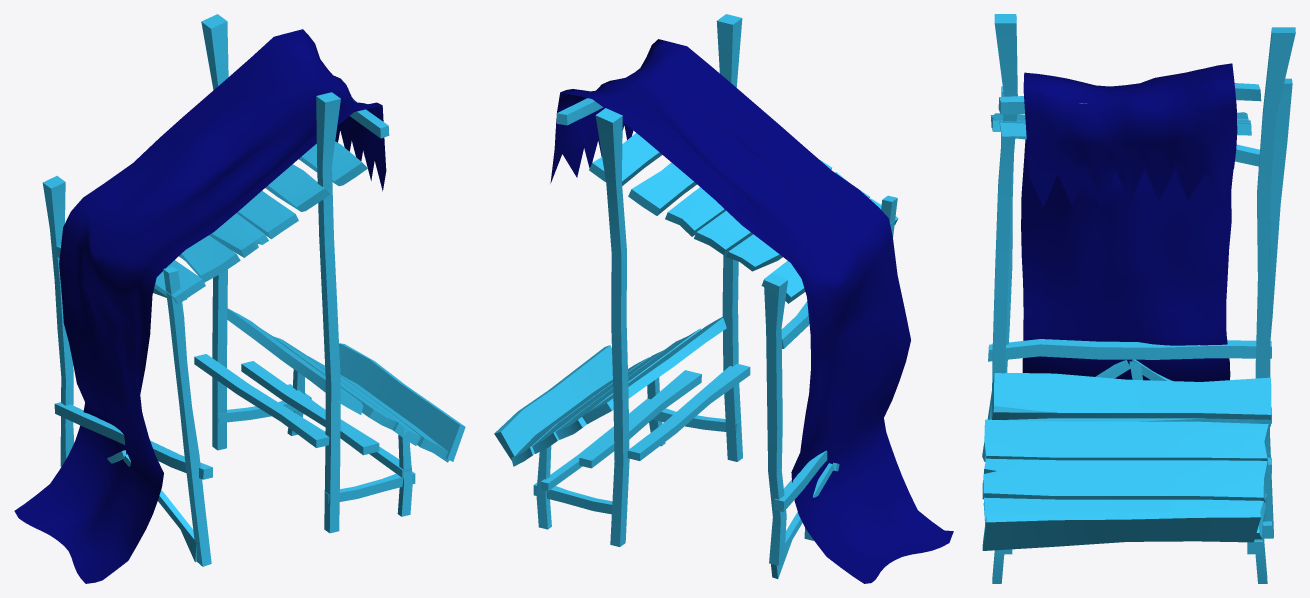
The model's file is Stall_A.fbx.
3 views of the same model, side by side, from view 1: azimuth 30°, elevation 25°; view 2: azimuth 150°, elevation 25°; view 3: azimuth 270°, elevation 25° (orthographic). The views are drawn at different scales.
Visible parts, largest first — view 1: Stall_A; view 2: Stall_A; view 3: Stall_A.
Part boxes in pixels (box(x1,y1,x2,y2)): Stall_A: box(14, 14, 465, 583); Stall_A: box(494, 14, 953, 583); Stall_A: box(982, 14, 1295, 583).
Bounding box in the file's own units: 366 × 433 × 231.
